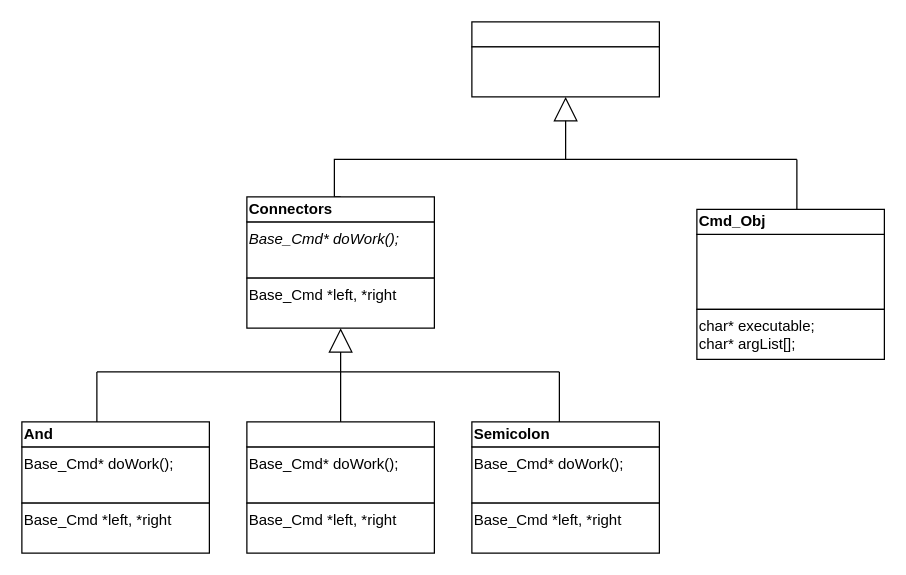
This 906x575 diagram has some shape labels left out. Each missing label, with the centre of its shape:
Base_Cmd: the point at 565,34
Base_Cmd* doWork(); bool execute(); parse();: the point at 790,271
Base_Cmd* doWork()=0;: the point at 565,71
Or: the point at 340,434
